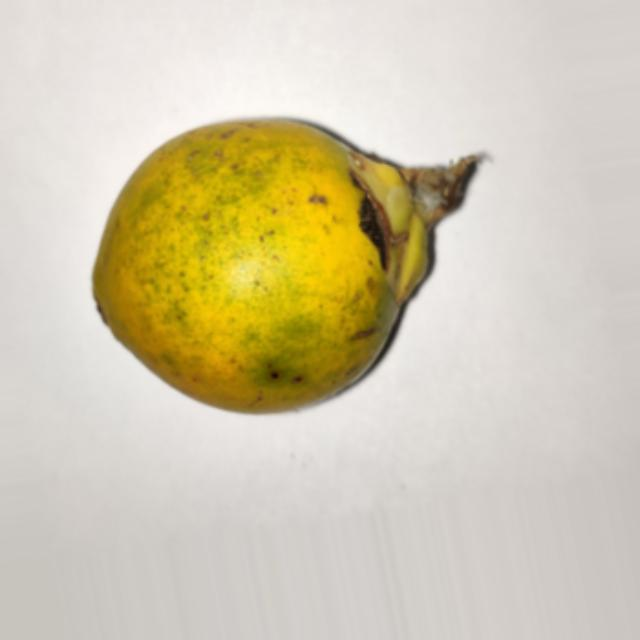good: (91, 119, 481, 417)
